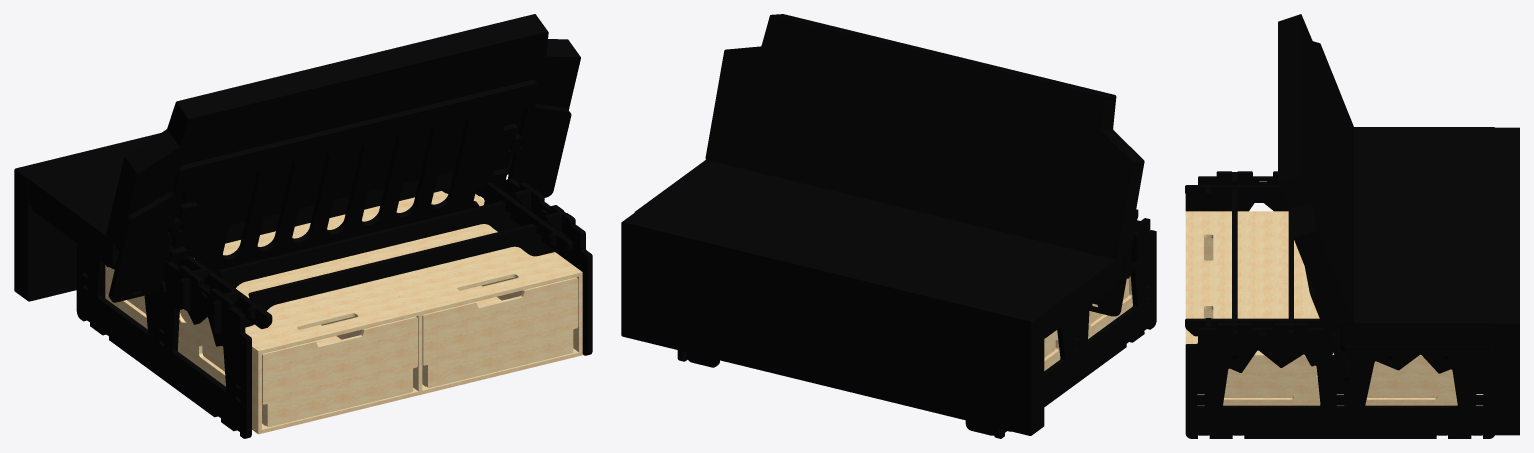
The model's file is Cuillin_expedition_assise.glb.
3 renders of one model, left to right at view 1: azimuth 30°, elevation 25°; view 2: azimuth 150°, elevation 25°; view 3: azimuth 270°, elevation 25°, orthographic. The views are drawn at different scales.
Bounding box in the file's own units: 1.51 × 0.9563 × 1.08.
Materials: 2 (1 with a texture image).
